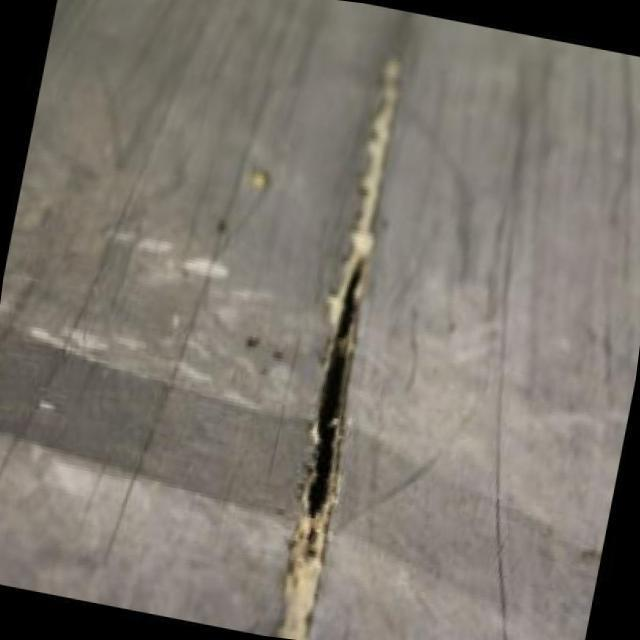Tear: (299, 252, 369, 533)
